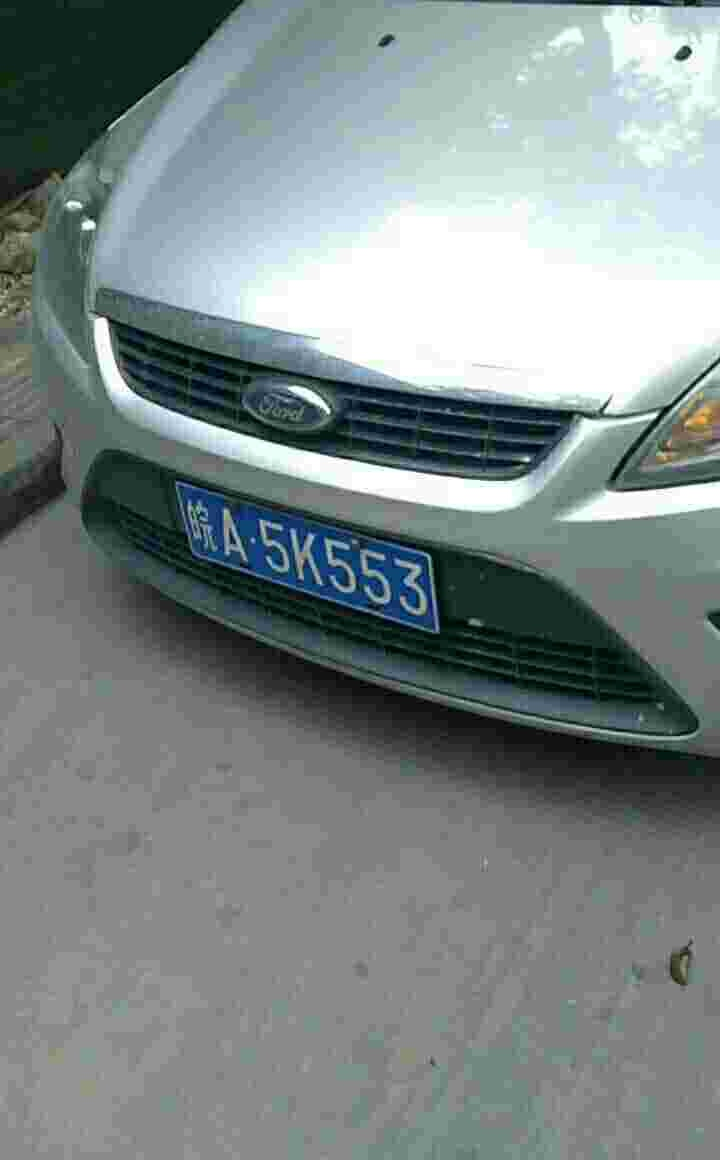license_plate: (173, 484, 432, 629)
